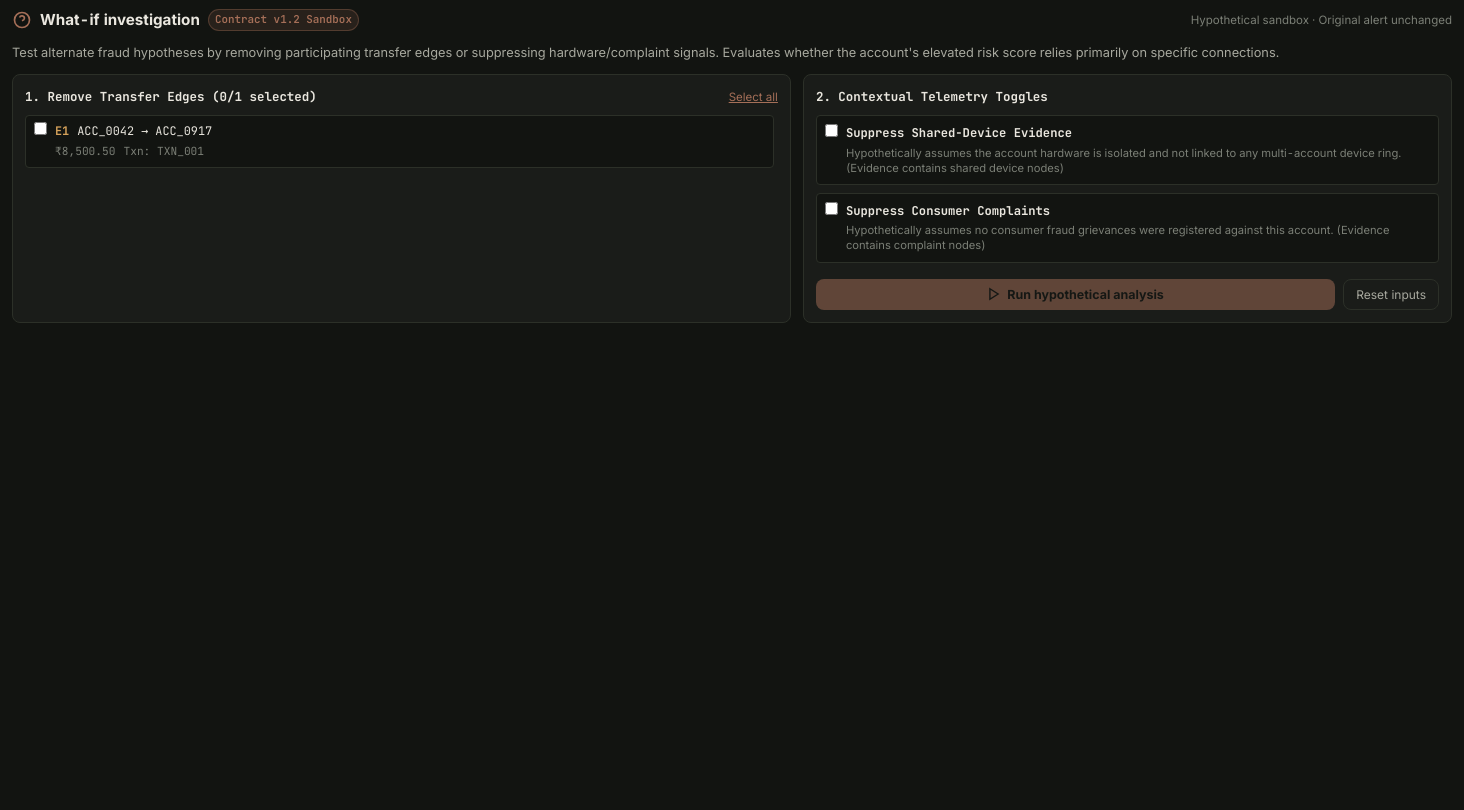
Test case: WhatIfInvestigation Component › resets hypothetical inputs and clears results on reset click
Select and run
Click the checkbox with test id "edge-checkbox-E1" at [40, 129], box [34,122,47,135]
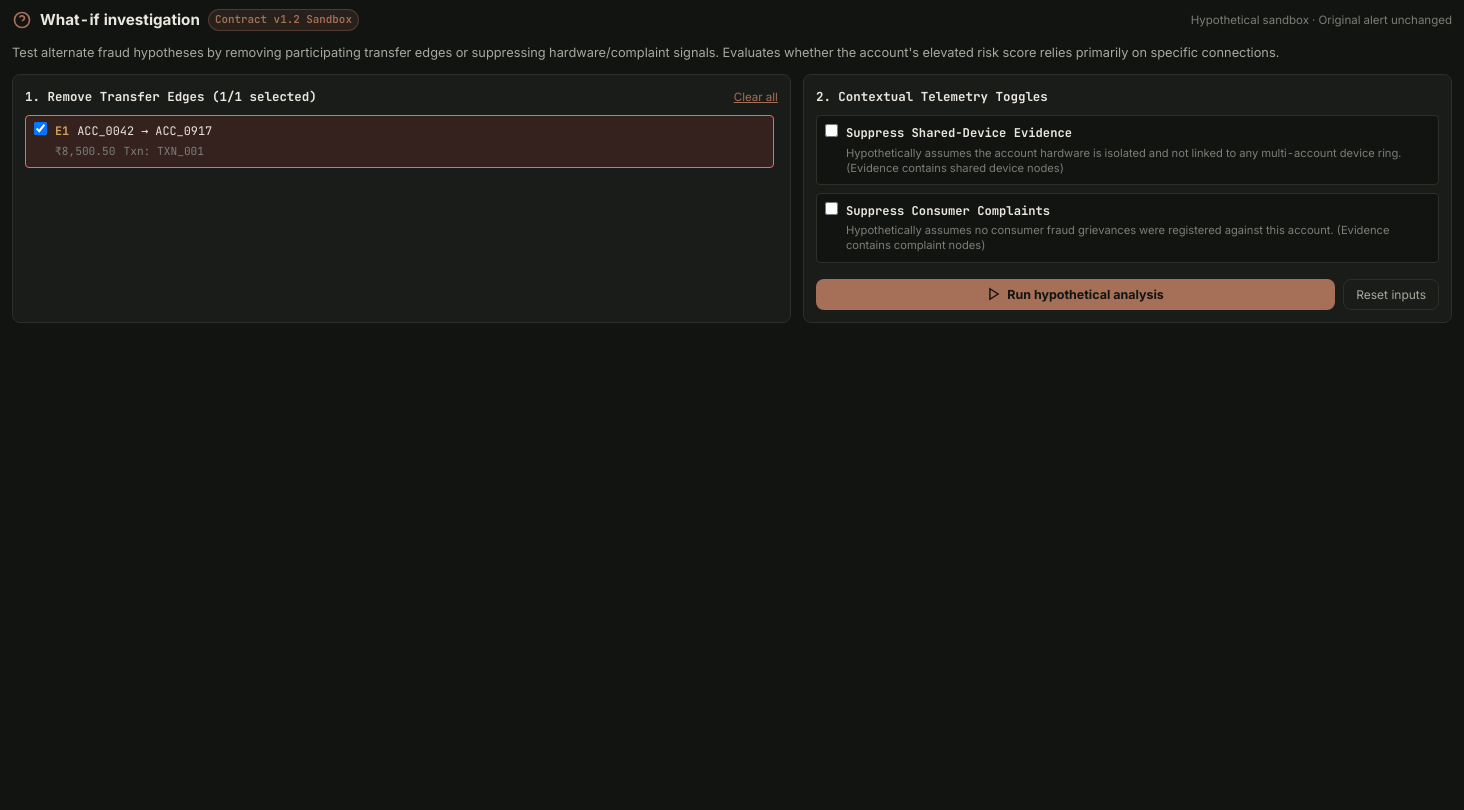
Click the button with test id "btn-run-whatif" at [1076, 294], box [816,278,1335,310]
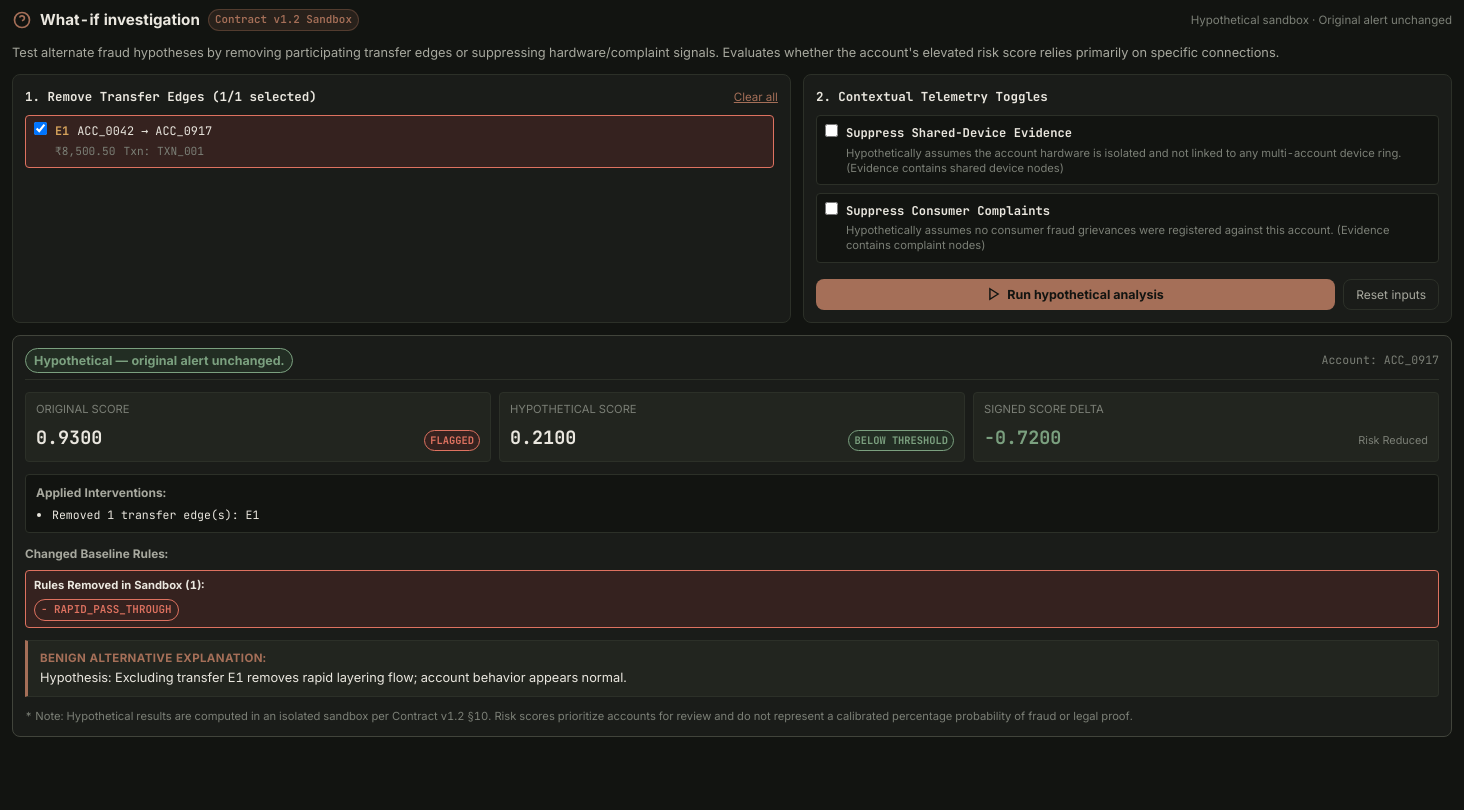
expect the element with test id "what-if-results-panel" is shown: met, box [12,334,1452,737]
Click Reset inputs
Click the button with test id "btn-reset-whatif" at [1391, 294], box [1343,278,1439,310]
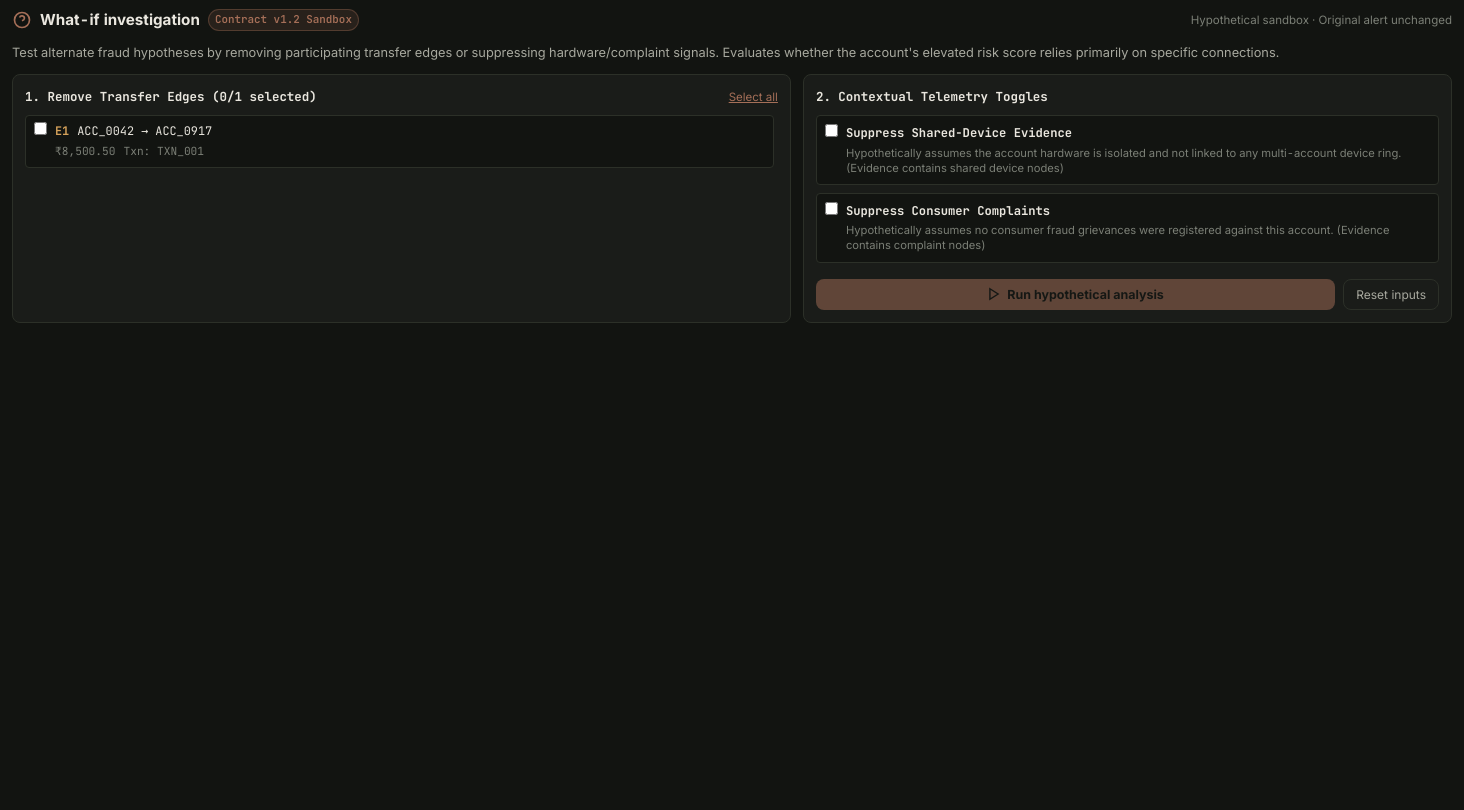
expect the checkbox with test id "edge-checkbox-E1" is not checked: met, box [34,122,47,135]
expect the element with test id "what-if-results-panel" is gone: met
